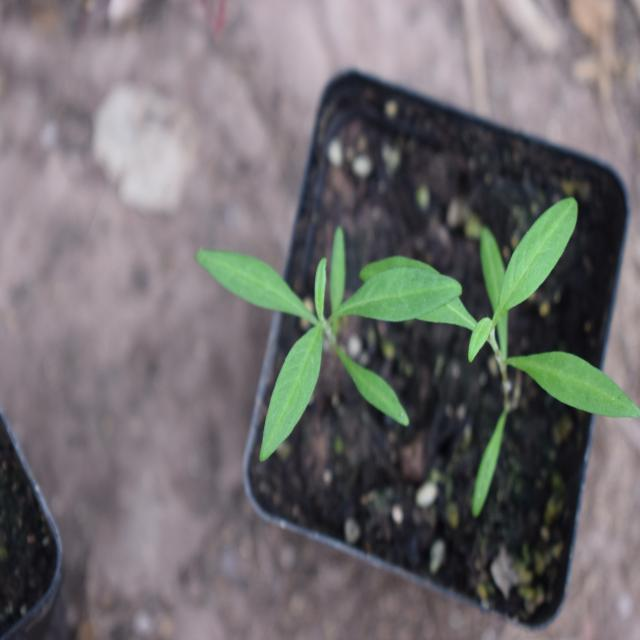white_smart_weed: (377, 176, 630, 479), (191, 190, 402, 488)
